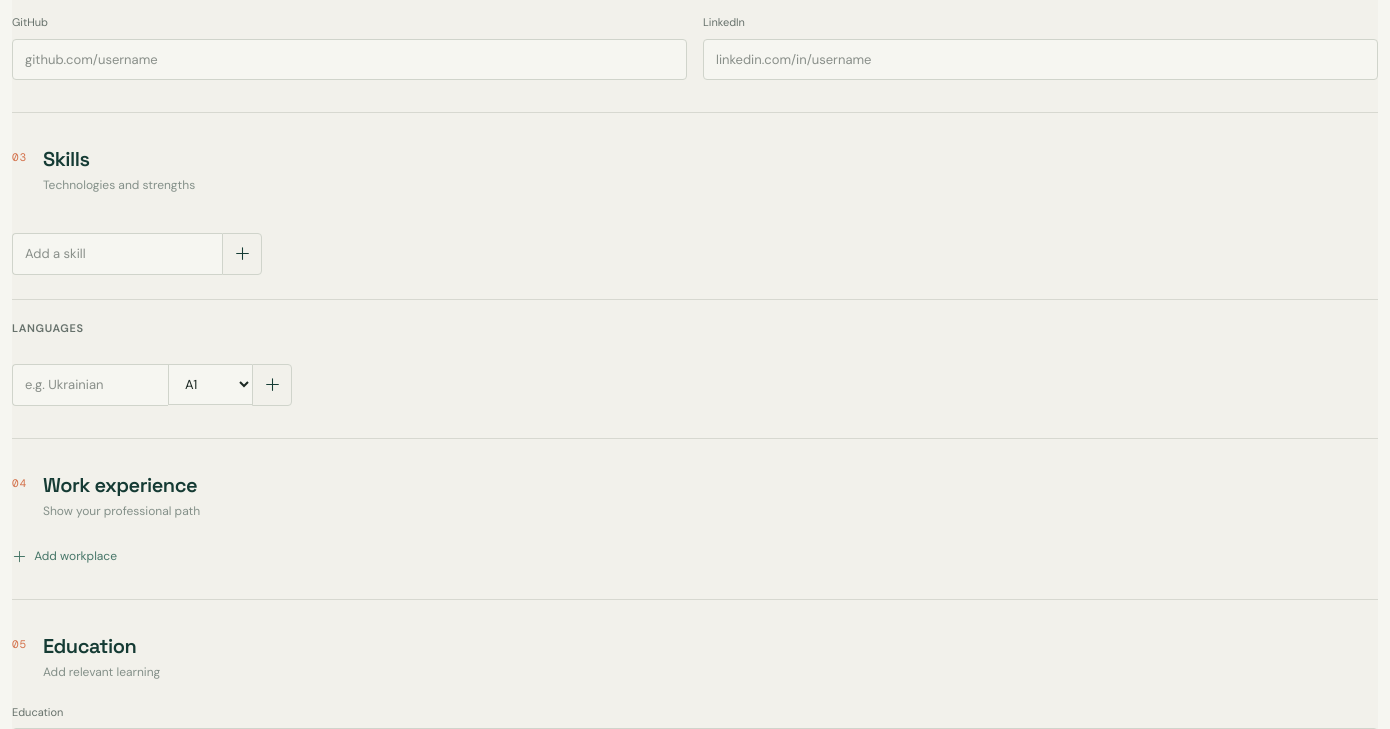
ResumeForm - languages › adds a language with its level
(page scrolled)
In the field named "Language": (90, 385) [12,364,168,406], type "German"
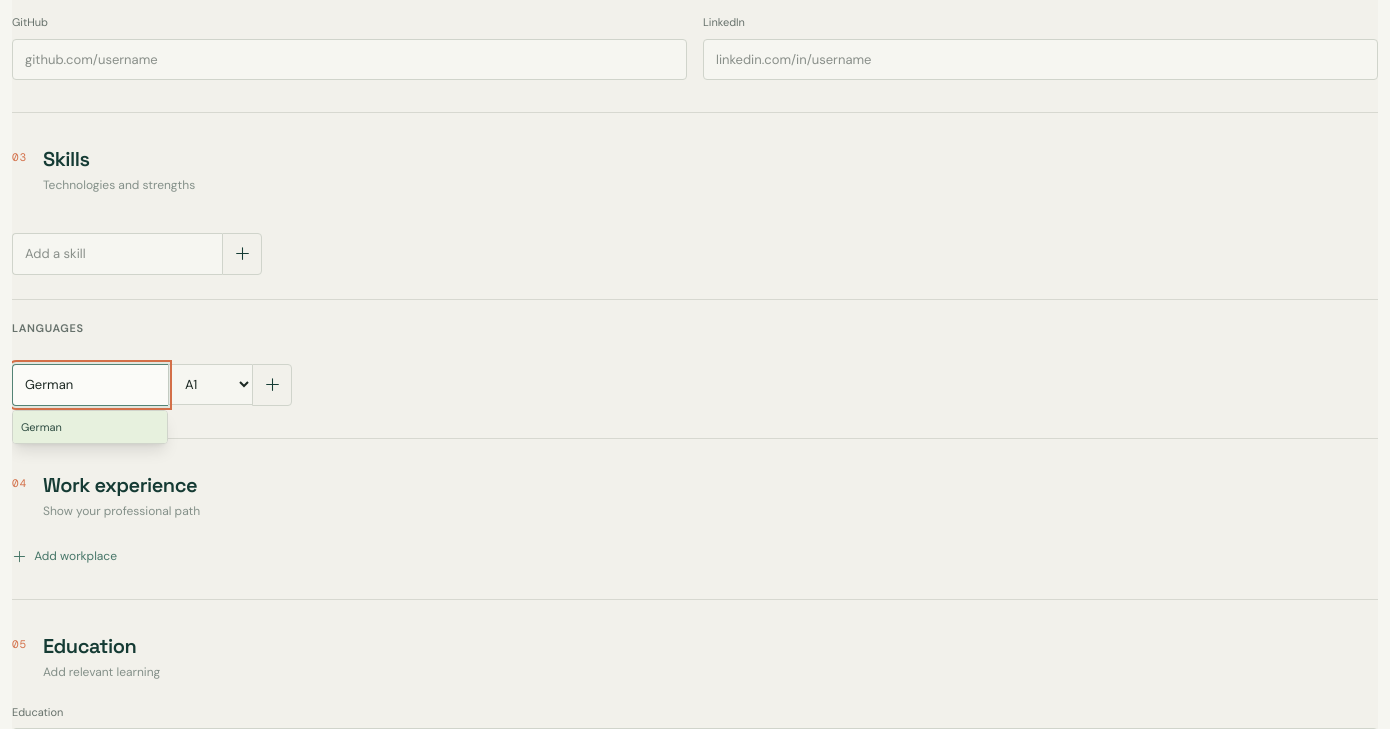
Select "C1" in the dropdown named "Level": (210, 384) [168,364,252,405]
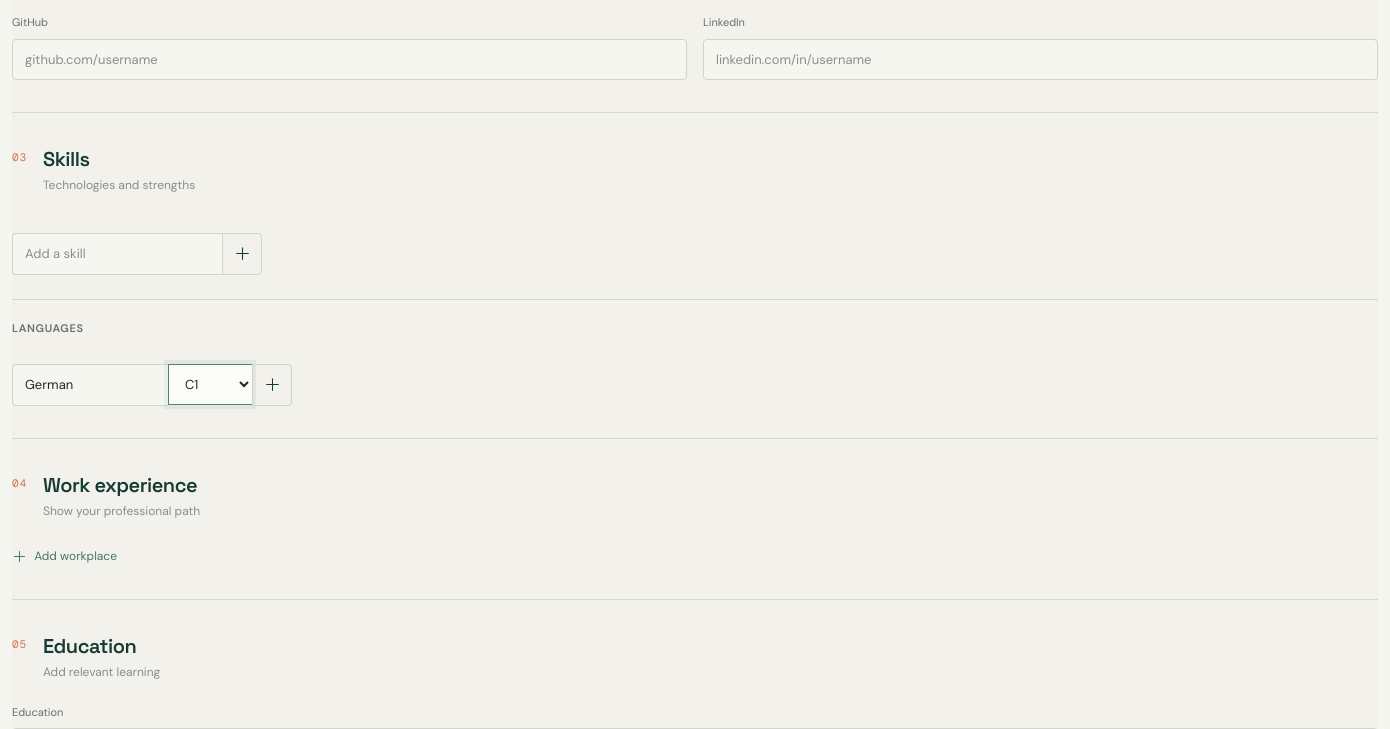
Click the button named "Add": (272, 385) [252,364,292,406]
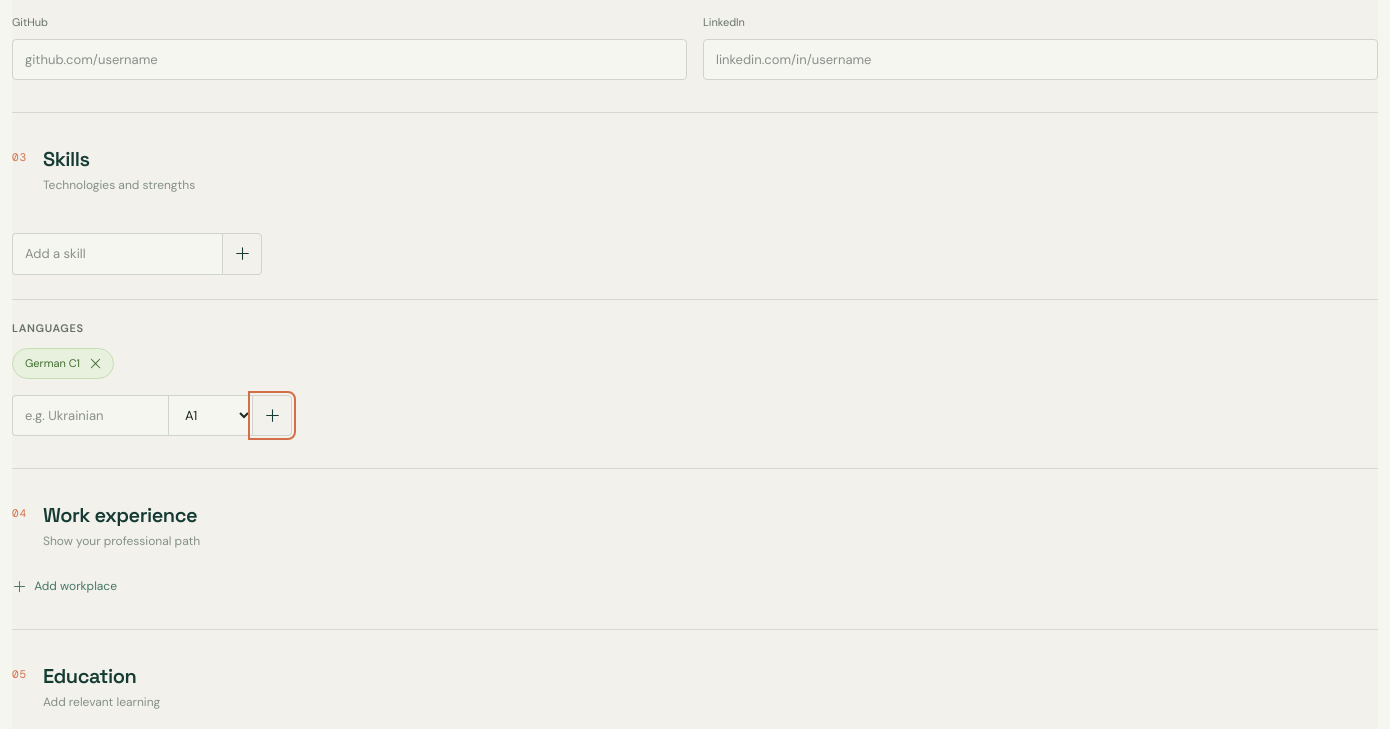
expect the text "German C1" is shown: met, box [12,348,114,378]
